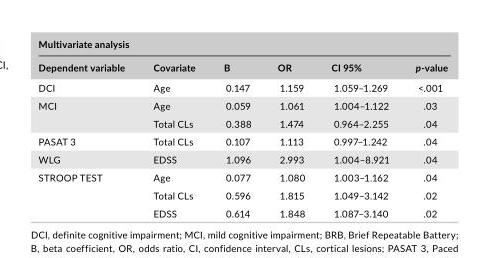table: (37, 37, 447, 218)
table column: (37, 37, 138, 218), (317, 37, 401, 218), (138, 37, 208, 218), (208, 37, 263, 218), (263, 37, 317, 218), (401, 37, 447, 218)
table column header: (37, 37, 447, 76)
table row: (37, 54, 447, 76), (37, 76, 447, 96), (37, 113, 447, 131), (37, 131, 447, 149), (37, 149, 447, 167), (37, 167, 447, 185), (37, 185, 447, 203), (37, 37, 447, 54), (37, 96, 447, 113), (37, 203, 447, 218)
table spanning cell: (37, 37, 447, 54), (37, 167, 138, 218), (37, 96, 138, 131)
